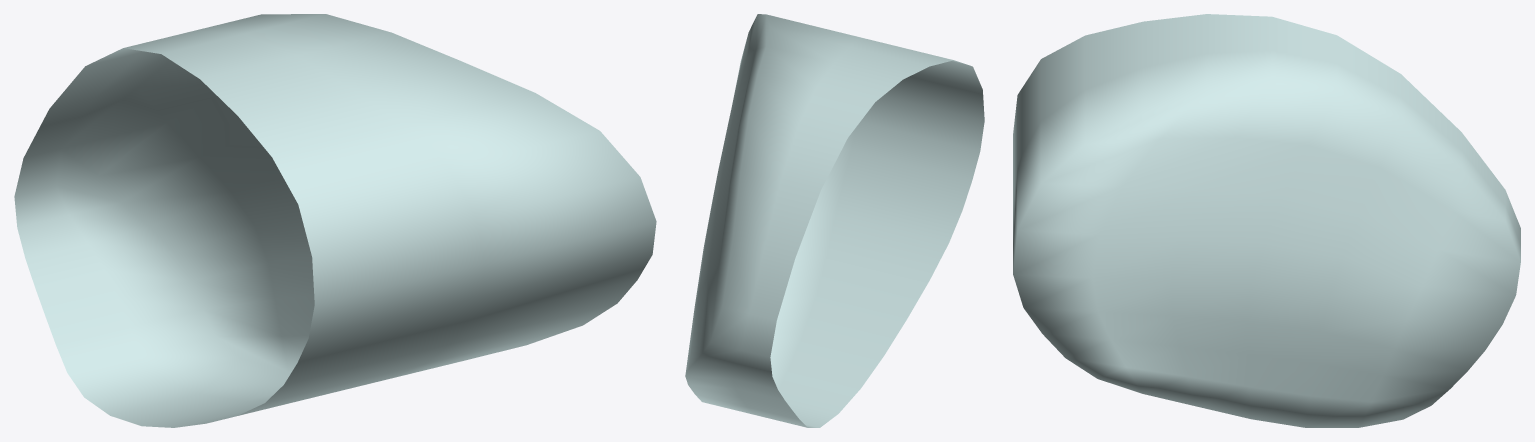
The model's file is Pubic_symphysis.l_Cube.039.glb.
3 renders of one model, left to right at view 1: azimuth 30°, elevation 25°; view 2: azimuth 150°, elevation 25°; view 3: azimuth 270°, elevation 25°, orthographic. The views are drawn at different scales.
Visible parts, largest first — view 1: Pubic_symphysis.l_Cube.039; view 2: Pubic_symphysis.l_Cube.039; view 3: Pubic_symphysis.l_Cube.039.
Boxes of the visible parts, box(x1,y1,x2,y2) form: Pubic_symphysis.l_Cube.039: box(14, 14, 656, 427); Pubic_symphysis.l_Cube.039: box(685, 14, 984, 427); Pubic_symphysis.l_Cube.039: box(1013, 14, 1520, 427).
Bounding box in the file's own units: 0.0172 × 0.0192 × 0.0259.
